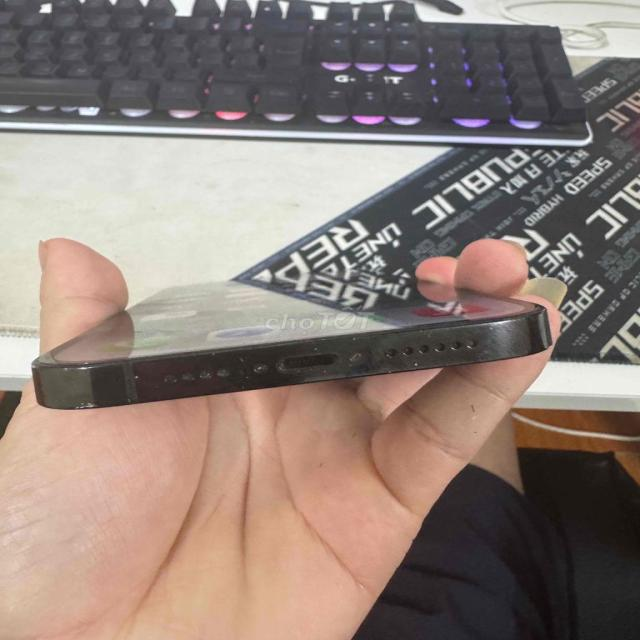gen_14: (36, 274, 562, 410)
scratch: (238, 319, 580, 382), (56, 392, 120, 420)
